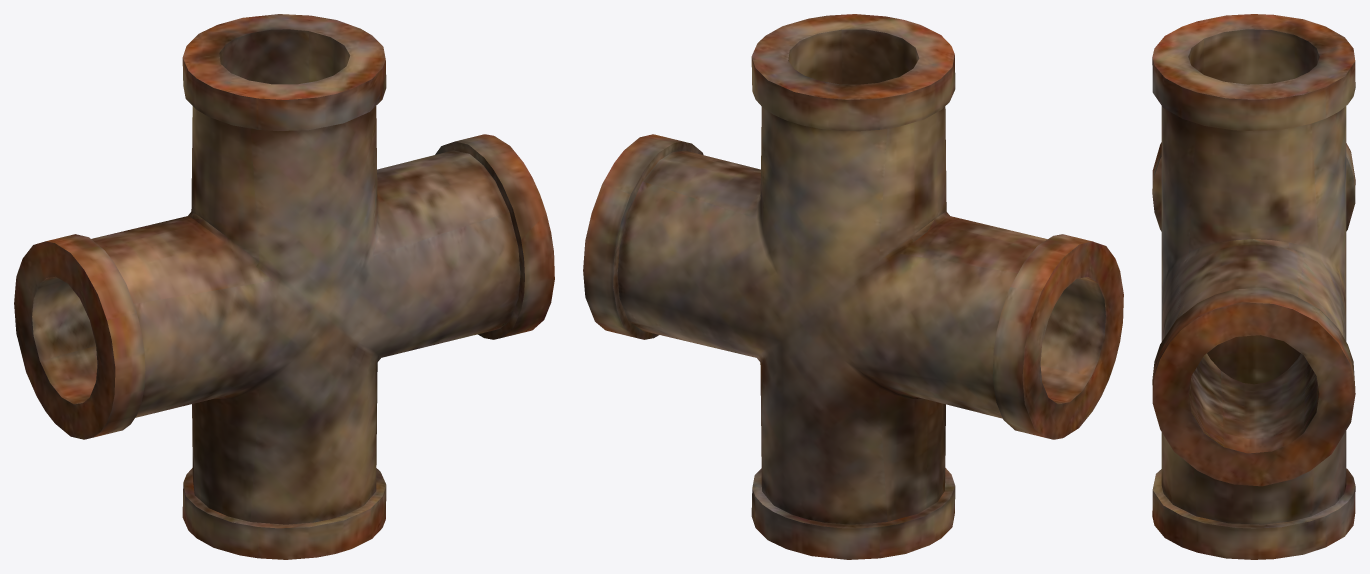
Rendered from old_pipe_01.glb.
3 views of the same model, side by side, from view 1: azimuth 30°, elevation 25°; view 2: azimuth 150°, elevation 25°; view 3: azimuth 270°, elevation 25° (orthographic).
Parts seen in each view (by area): view 1: old_pipe_01; view 2: old_pipe_01; view 3: old_pipe_01.
Boxes of the visible parts, x1,y1,x2,y2 form: old_pipe_01: [14, 14, 554, 559]; old_pipe_01: [583, 14, 1123, 559]; old_pipe_01: [1152, 14, 1355, 559].
Size of what is drawn, in the model's own units: 0.2108 by 0.2108 by 0.0843.
Materials: 1 (1 with a texture image).
